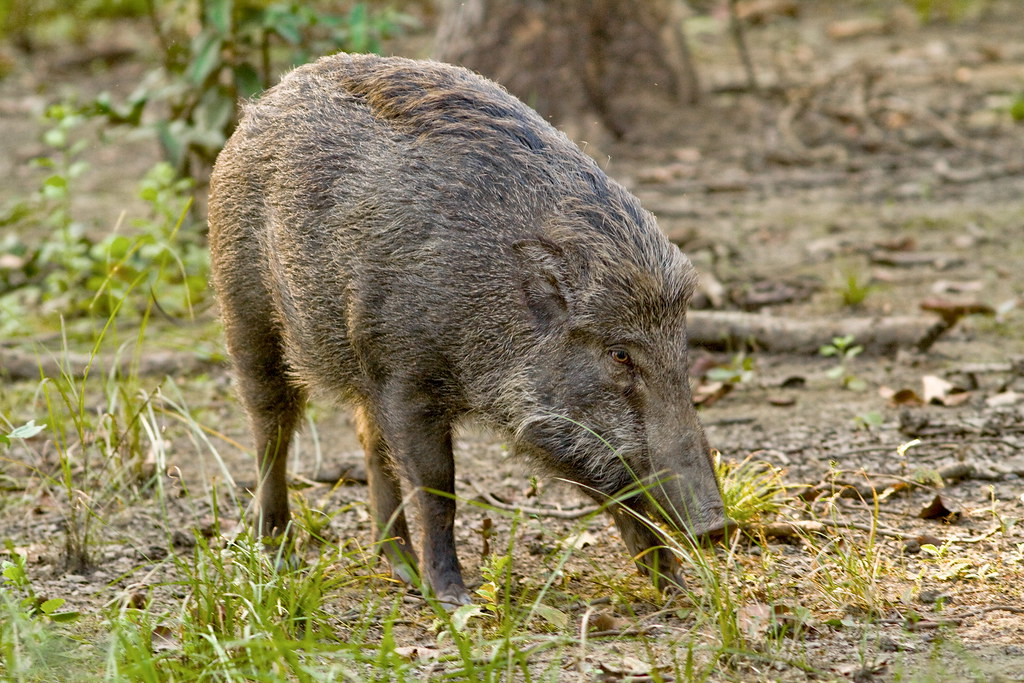wild boar: (188, 42, 746, 616)
